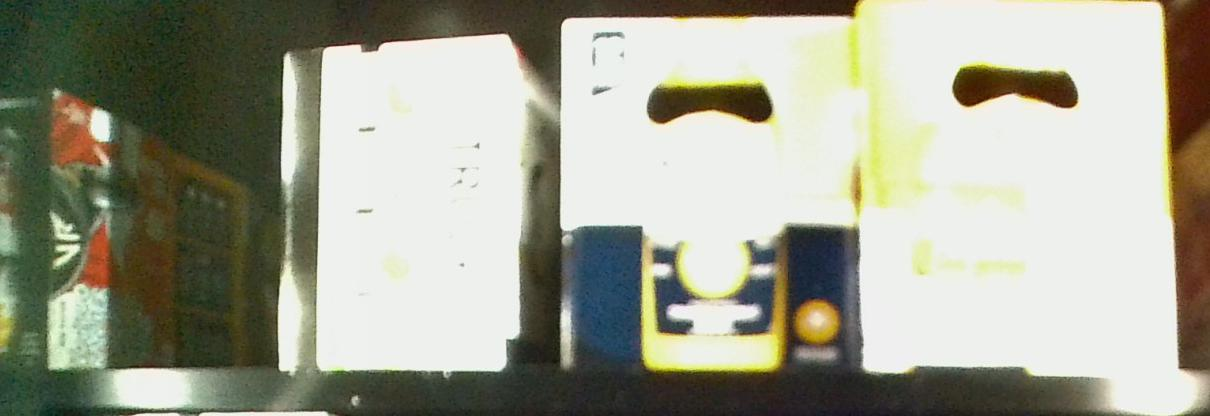bottle: (858, 3, 1177, 376), (561, 15, 856, 374), (279, 32, 560, 366)
